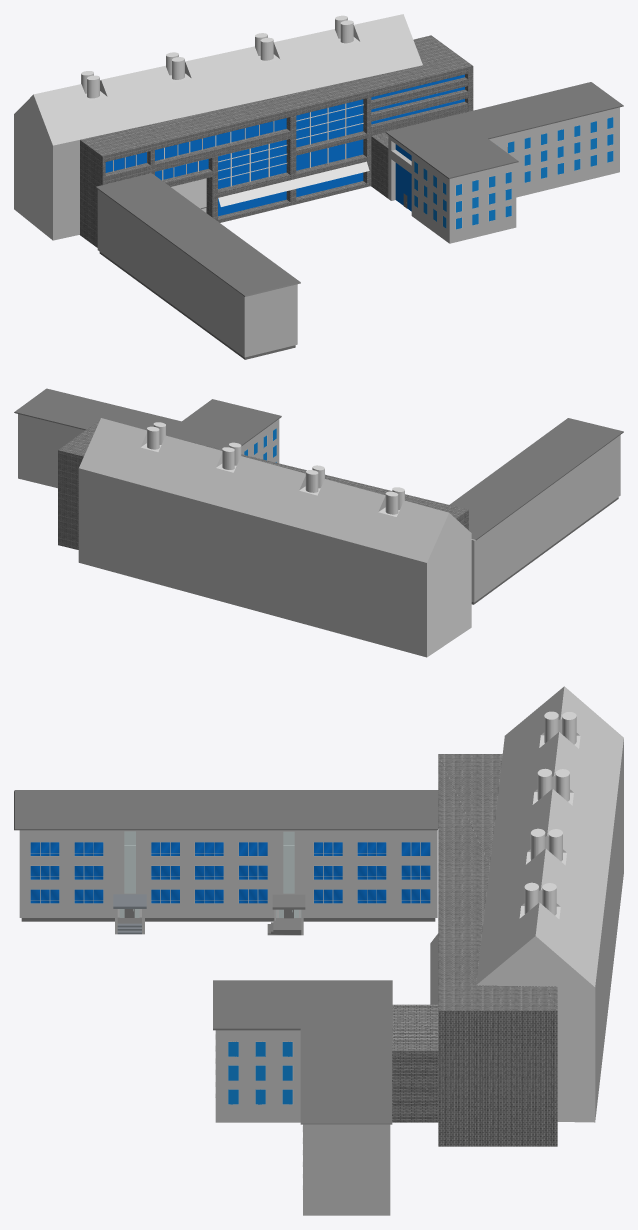
The model's file is AverdianAndBrick.fbx.
3 renders of one model, top to bottom at view 1: azimuth 30°, elevation 25°; view 2: azimuth 150°, elevation 25°; view 3: azimuth 270°, elevation 25°, orthographic. The views are drawn at different scales.
Visible parts, largest first — view 1: Averdision, Roof, Tyler Hall, Woodward Hall, Windows.004, WindowDividers, Side of Tyler, Windows.001, Windows.002; view 2: Roof, Woodward Hall, Tyler Hall, Averdision; view 3: Woodward Hall, Roof, Tyler Hall, Averdision, Side of Tyler, Windows.006, Windows.005, Windows, Windows.003.
Boxes of the visible parts, x1,y1,x2,y2 form: Averdision: (80,35,473,247); Roof: (14,14,422,240); Tyler Hall: (385,82,623,243); Woodward Hall: (96,173,300,359); Windows.004: (497,117,613,182); WindowDividers: (113,103,363,186); Side of Tyler: (371,132,388,198); Windows.001: (455,171,511,229); Windows.002: (414,161,446,228); Roof: (78,418,471,657); Woodward Hall: (449,418,623,604); Tyler Hall: (14,388,281,488); Averdision: (58,420,468,549); Woodward Hall: (14,790,438,935); Roof: (476,686,623,1122); Tyler Hall: (213,980,392,1215); Averdision: (430,754,557,1146); Side of Tyler: (392,1004,438,1122); Windows.006: (313,842,430,903); Windows.005: (151,842,267,903); Windows: (30,842,103,903); Windows.003: (228,1041,293,1104).
Size of the model in its own units: 13613 by 3585 by 10132.
